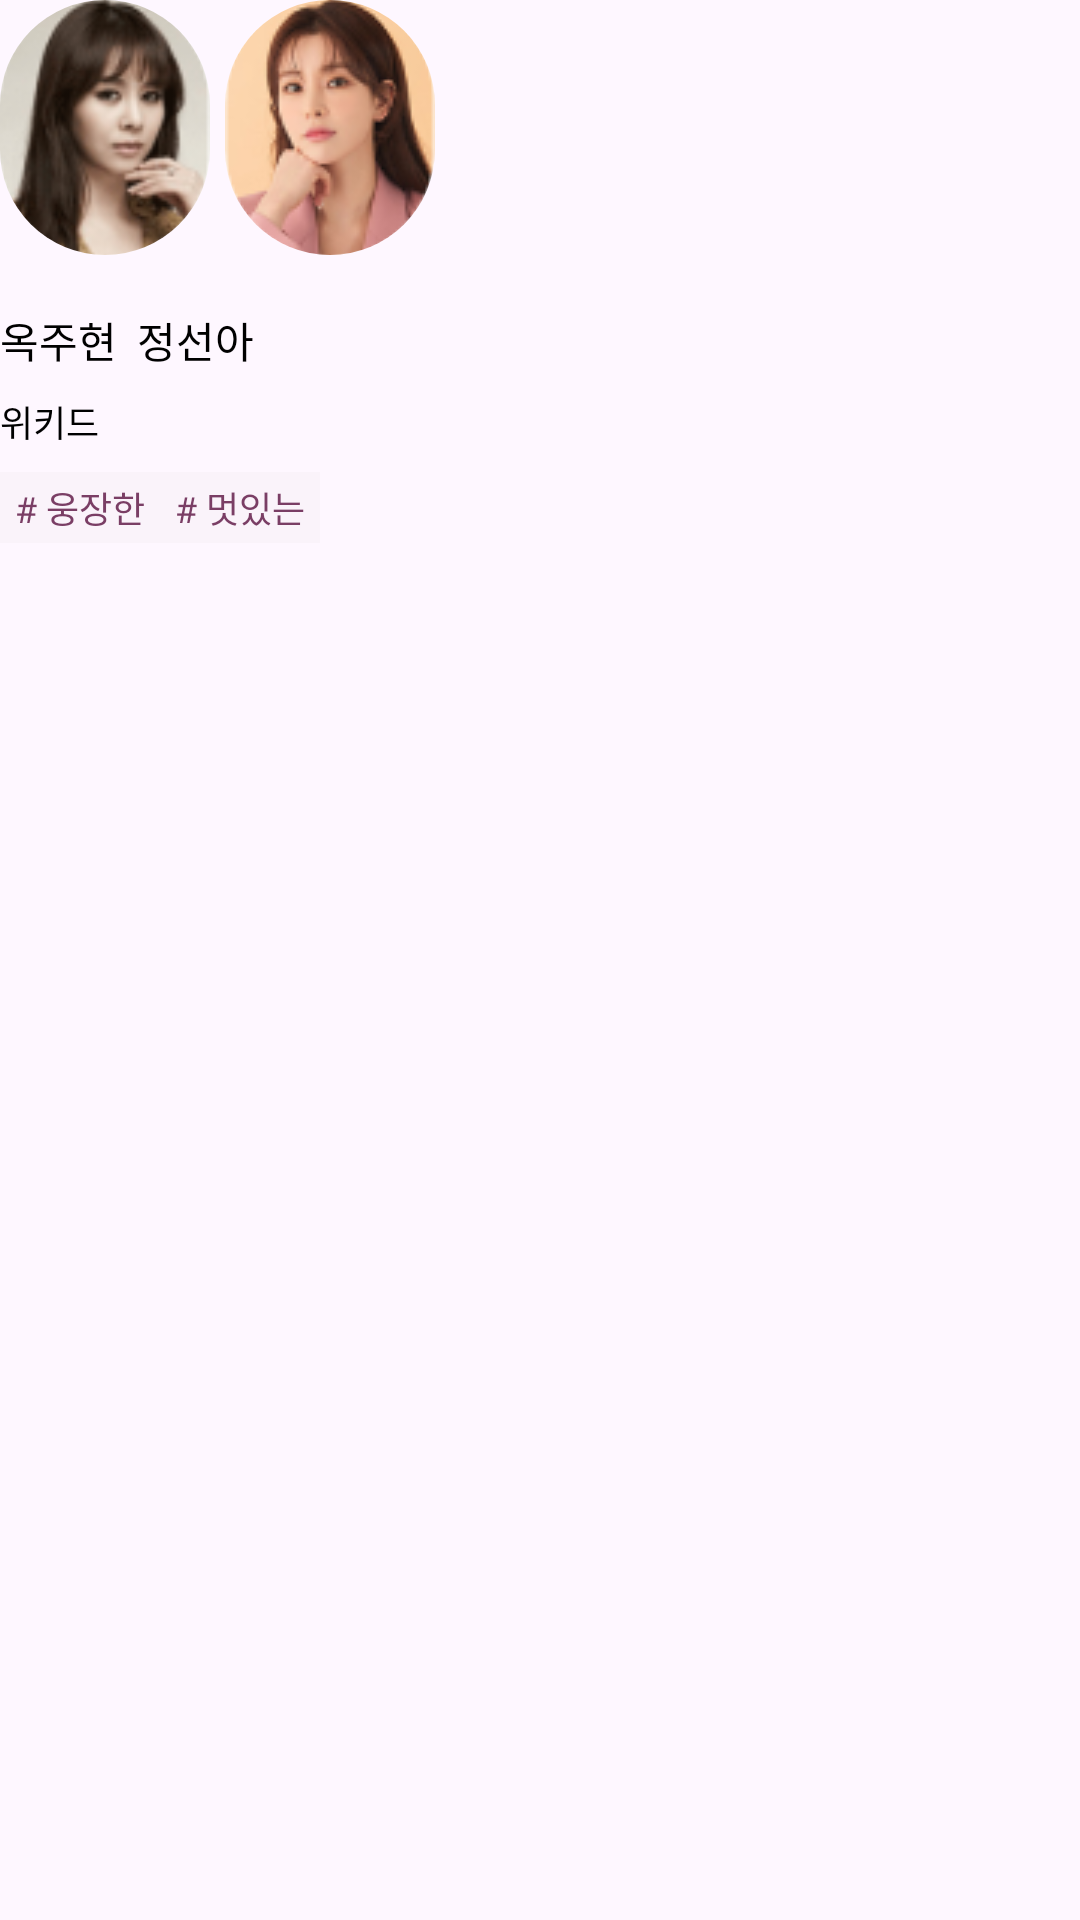

Where to tap for icons on this 1080 × 1920 app screen, as (x=x, y=y):
actor: (x=105, y=127), (x=330, y=127)
